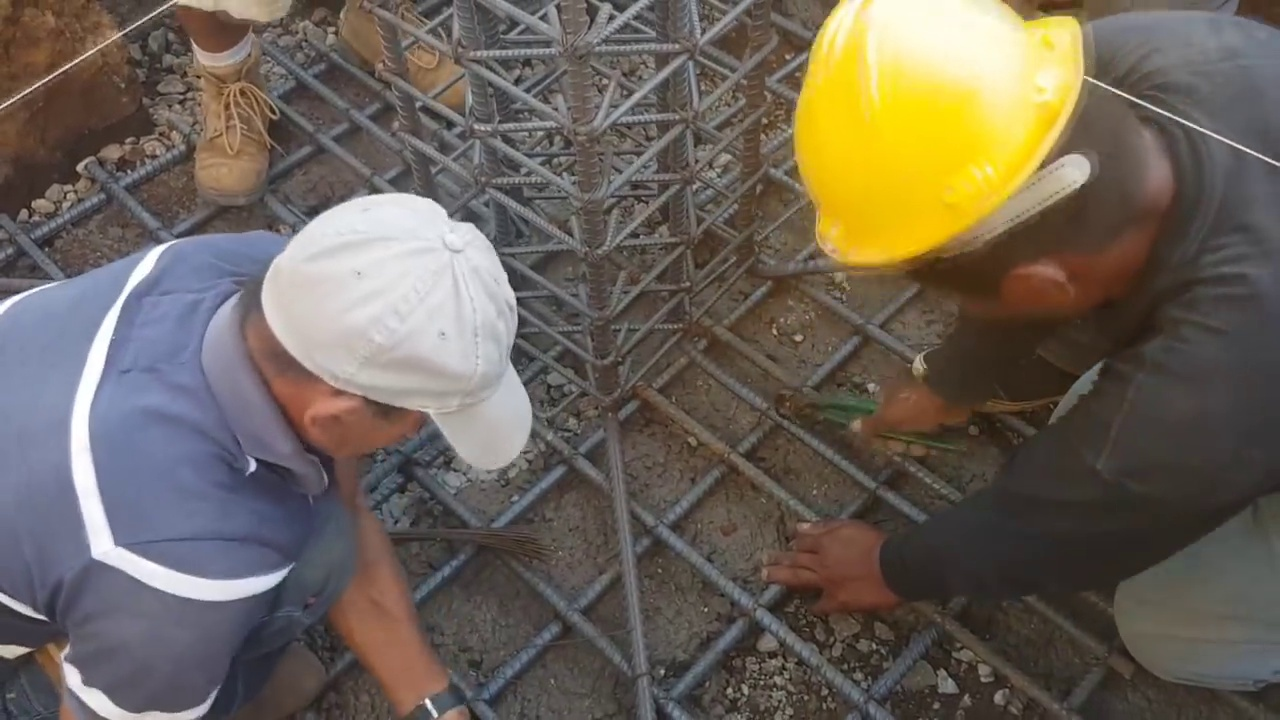helmet: (794, 0, 1077, 274)
helmet-off: (233, 192, 549, 474)
helmet-on: (796, 16, 1204, 340)
person: (765, 0, 1280, 683), (0, 192, 550, 720)
